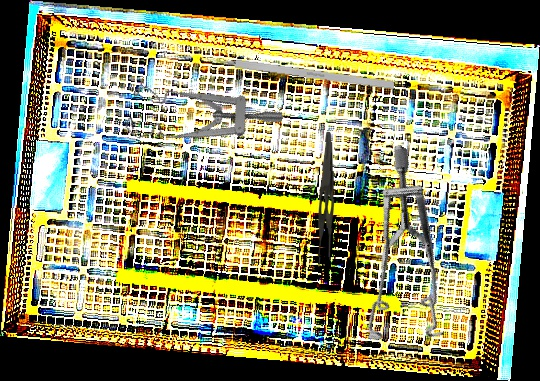Dressing Forceps: (311, 132, 337, 267)
Hook Surgical: (196, 53, 395, 90)
Speculum: (300, 142, 517, 372), (117, 52, 285, 190)
